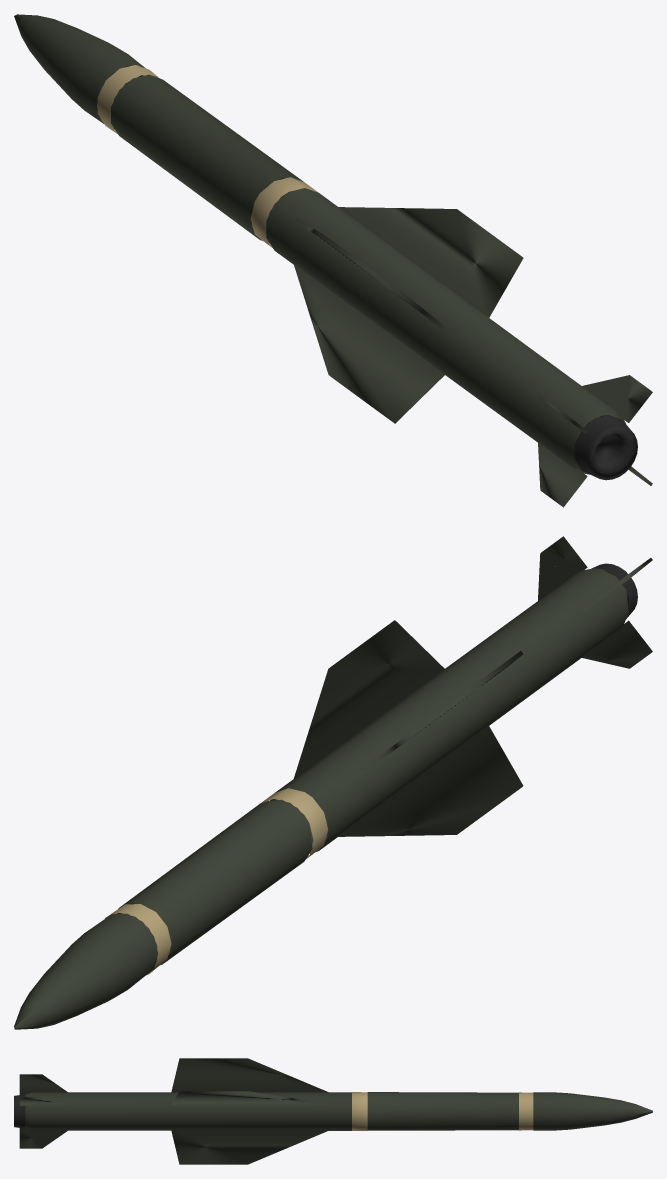
Rendered from msl_rapier_lo.glb.
The picture shows the model from 3 angles, top to bottom: view 1: azimuth 30°, elevation 25°; view 2: azimuth 150°, elevation 25°; view 3: azimuth 270°, elevation 25°; orthographic projection. The views are drawn at different scales.
Visible parts, largest first — view 1: body|RPM_body, body|RPM_dark, body|RPM_band; view 2: body|RPM_body, body|RPM_band; view 3: body|RPM_body, body|RPM_band, body|RPM_dark.
Part boxes in pixels (x1,y1,x2,y2): body|RPM_body: (14, 14, 652, 507); body|RPM_dark: (574, 415, 637, 480); body|RPM_band: (97, 65, 318, 247); body|RPM_body: (14, 536, 652, 1029); body|RPM_band: (105, 788, 328, 974); body|RPM_body: (19, 1058, 652, 1164); body|RPM_band: (352, 1092, 533, 1130); body|RPM_dark: (14, 1094, 25, 1127).
Bounding box in the file's own units: 0.2843 × 0.2843 × 2.24.
